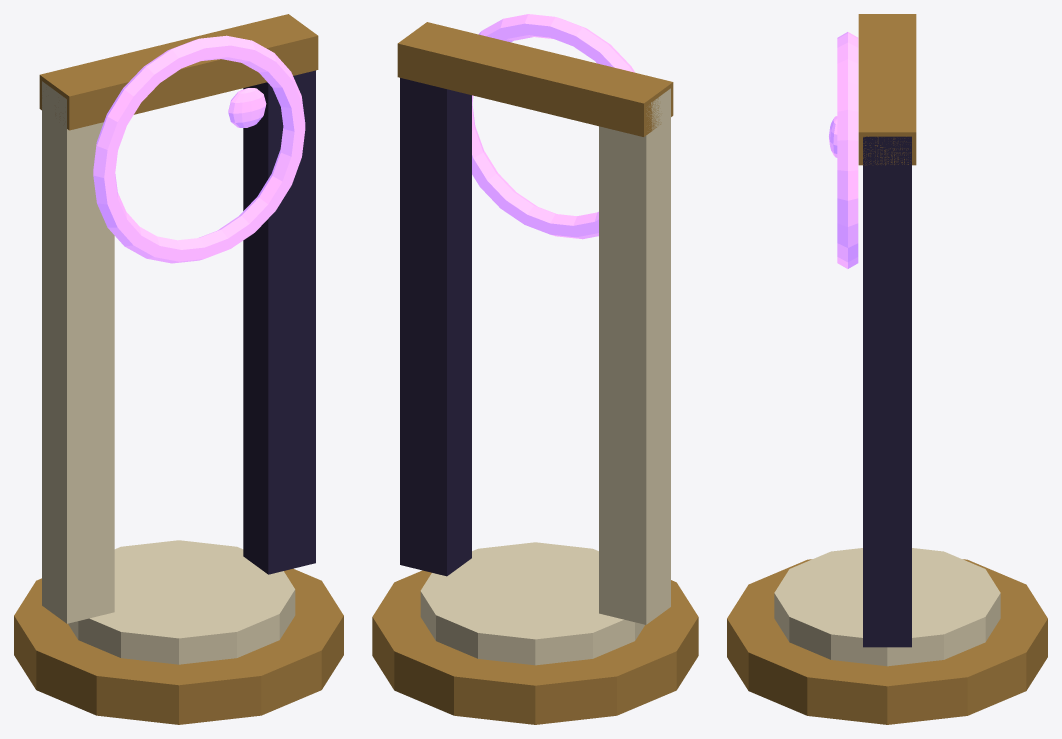
File: runtime.glb
The picture shows the model from 3 angles, left to right: view 1: azimuth 30°, elevation 25°; view 2: azimuth 150°, elevation 25°; view 3: azimuth 270°, elevation 25°; orthographic projection. The views are drawn at different scales.
Parts seen in each view (by area): view 1: aetherion-zodiac-stele-v06_left_pier_nocol, aetherion-zodiac-stele-v06_right_pier_nocol, aetherion-zodiac-stele-v06_foot_nocol, aetherion-zodiac-stele-v06_plinth_nocol, aetherion-zodiac-stele-v06_primary_meridian_nocol, aetherion-zodiac-stele-v06_lintel_nocol, aetherion-zodiac-stele-v06_sun_nocol; view 2: aetherion-zodiac-stele-v06_left_pier_nocol, aetherion-zodiac-stele-v06_right_pier_nocol, aetherion-zodiac-stele-v06_foot_nocol, aetherion-zodiac-stele-v06_plinth_nocol, aetherion-zodiac-stele-v06_lintel_nocol, aetherion-zodiac-stele-v06_primary_meridian_nocol; view 3: aetherion-zodiac-stele-v06_right_pier_nocol, aetherion-zodiac-stele-v06_foot_nocol, aetherion-zodiac-stele-v06_plinth_nocol, aetherion-zodiac-stele-v06_lintel_nocol, aetherion-zodiac-stele-v06_primary_meridian_nocol.
Boxes of the visible parts, x1,y1,x2,y2 form: aetherion-zodiac-stele-v06_left_pier_nocol: (42,81,114,623); aetherion-zodiac-stele-v06_right_pier_nocol: (243,70,315,574); aetherion-zodiac-stele-v06_foot_nocol: (14,568,343,724); aetherion-zodiac-stele-v06_plinth_nocol: (68,540,295,664); aetherion-zodiac-stele-v06_primary_meridian_nocol: (93,35,305,263); aetherion-zodiac-stele-v06_lintel_nocol: (39,14,318,130); aetherion-zodiac-stele-v06_sun_nocol: (228,88,266,127); aetherion-zodiac-stele-v06_left_pier_nocol: (599,88,670,624); aetherion-zodiac-stele-v06_right_pier_nocol: (400,78,471,576); aetherion-zodiac-stele-v06_foot_nocol: (372,570,698,724); aetherion-zodiac-stele-v06_plinth_nocol: (420,542,644,665); aetherion-zodiac-stele-v06_lintel_nocol: (397,22,673,136); aetherion-zodiac-stele-v06_primary_meridian_nocol: (472,14,634,239); aetherion-zodiac-stele-v06_right_pier_nocol: (863,136,911,647); aetherion-zodiac-stele-v06_foot_nocol: (727,559,1047,724); aetherion-zodiac-stele-v06_plinth_nocol: (774,548,1000,666); aetherion-zodiac-stele-v06_lintel_nocol: (858,14,916,165); aetherion-zodiac-stele-v06_primary_meridian_nocol: (837,32,858,268).
Bounding box in the file's own units: 4.21 × 8.9 × 4.21.
